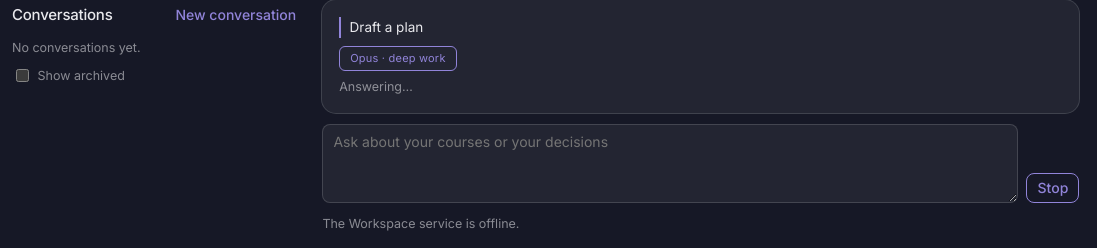
Scenario: the state under a question › shows the stopped sentence at once after Stop, before the database has answered
What coordinates should you click on to do the following:
click the button "Stop"
I would click on:
 (1053, 188)
Its box is [1026,173,1080,203].
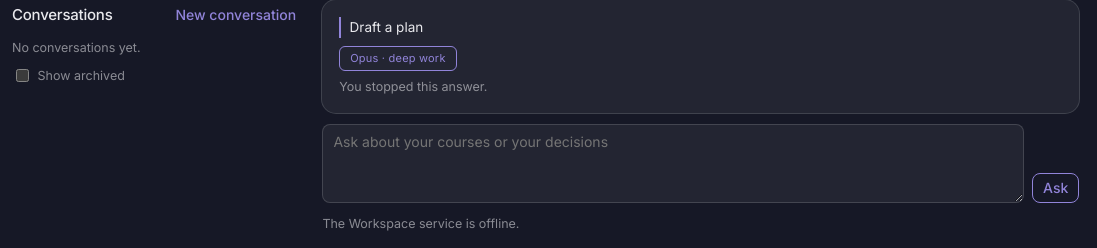
Expected: the button "Ask" is shown, [1032,173,1079,203]
Expected: the text "You stopped this answer." is shown, [339,79,487,94]
